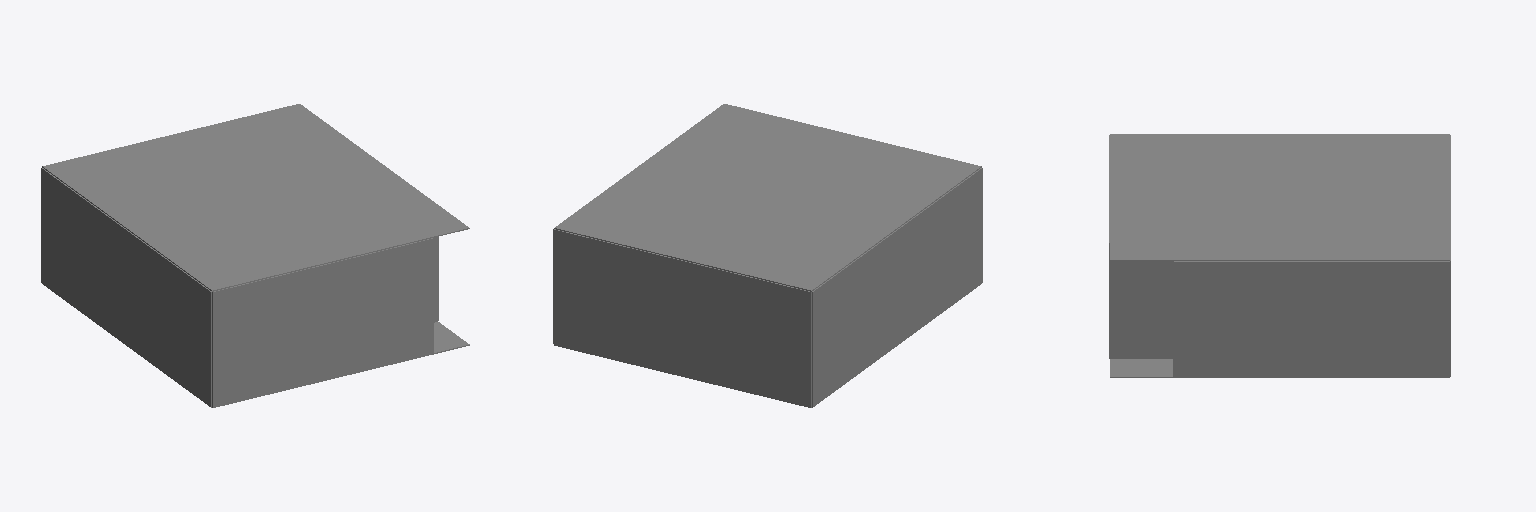
The model's file is RoomCollision.obj.
3 views of the same model, side by side, from view 1: azimuth 30°, elevation 25°; view 2: azimuth 150°, elevation 25°; view 3: azimuth 270°, elevation 25° (orthographic).
Visible parts, largest first — view 1: ceiling, wallBack, wallLeft, floor; view 2: ceiling, wallFront, wallLeft; view 3: ceiling, wallRight, wallRightSmall, floor.
Part boxes in pixels (bbox=[...]): ceiling: bbox=[42, 104, 469, 291]; wallBack: bbox=[212, 238, 433, 407]; wallLeft: bbox=[41, 168, 211, 407]; floor: bbox=[56, 294, 469, 407]; ceiling: bbox=[554, 104, 981, 291]; wallFront: bbox=[554, 229, 811, 407]; wallLeft: bbox=[812, 168, 982, 407]; ceiling: bbox=[1110, 134, 1449, 260]; wallRight: bbox=[1174, 261, 1449, 376]; wallRightSmall: bbox=[1110, 261, 1172, 358]; floor: bbox=[1110, 359, 1449, 377].
Size of the model in its own units: 7.06 by 3.06 by 8.06.